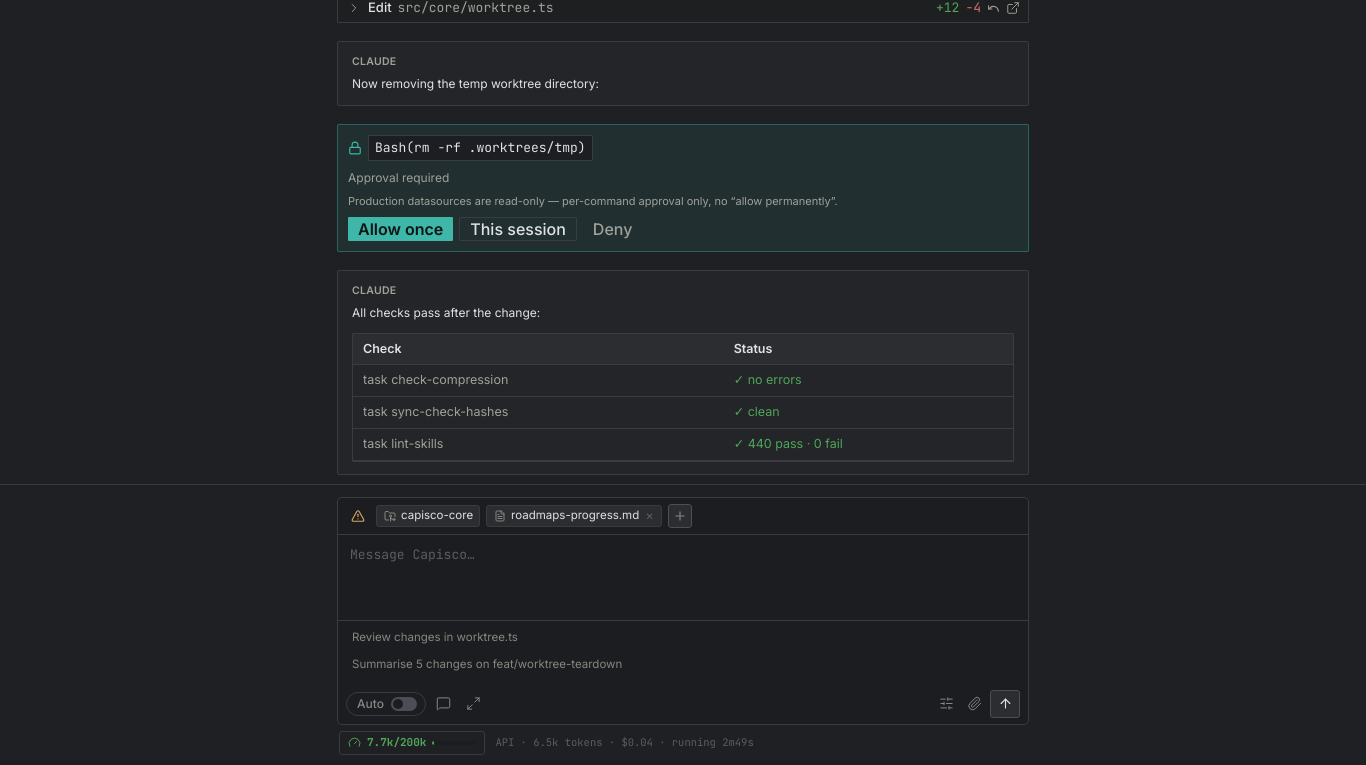
Test: Composer P3 — empty-state suggestions › clicking a suggestion fills the composer WITHOUT sending
(page scrolled)
Check: the dropdown with test id "composer-input" is empty, box top-left (338, 535), bottom-right (1028, 614)
Click the option with test id "composer-suggestion-open-file": (435, 637) top-left (344, 625), bottom-right (1022, 650)
(page scrolled)
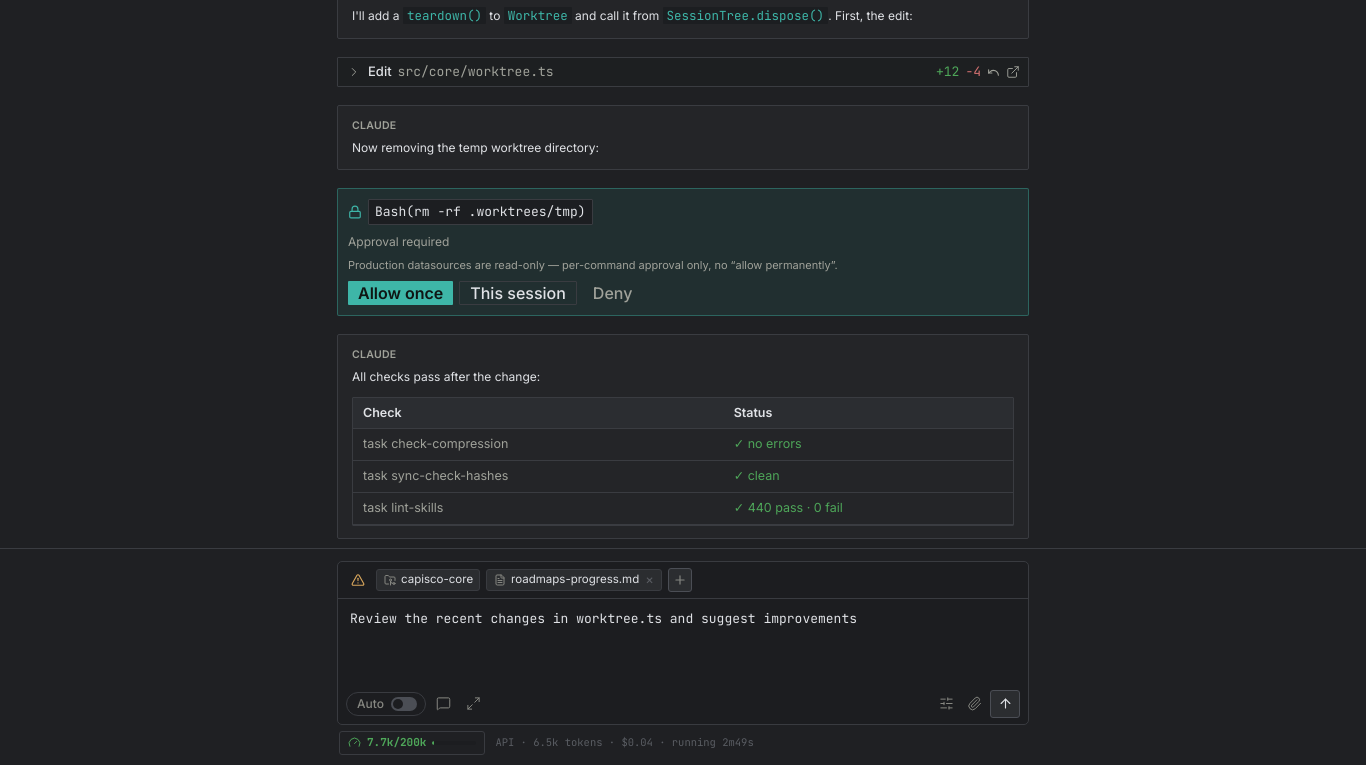
Check: the dropdown with test id "composer-input" is not empty, box top-left (338, 599), bottom-right (1028, 678)
Check: the list with test id "composer-empty-suggestions" is gone
